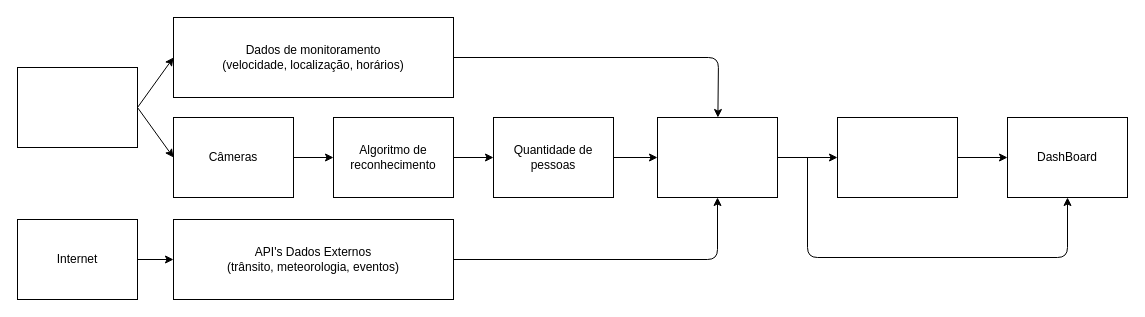
This 1145x317 diagram has some shape labels left out. Here are the shapes that lost their labels. From the top down, the centre of each, then its label:
At (x=77, y=107): "Ônibus".
At (x=717, y=157): "Tratamento".
At (x=897, y=157): "Inteligência Artificial".
